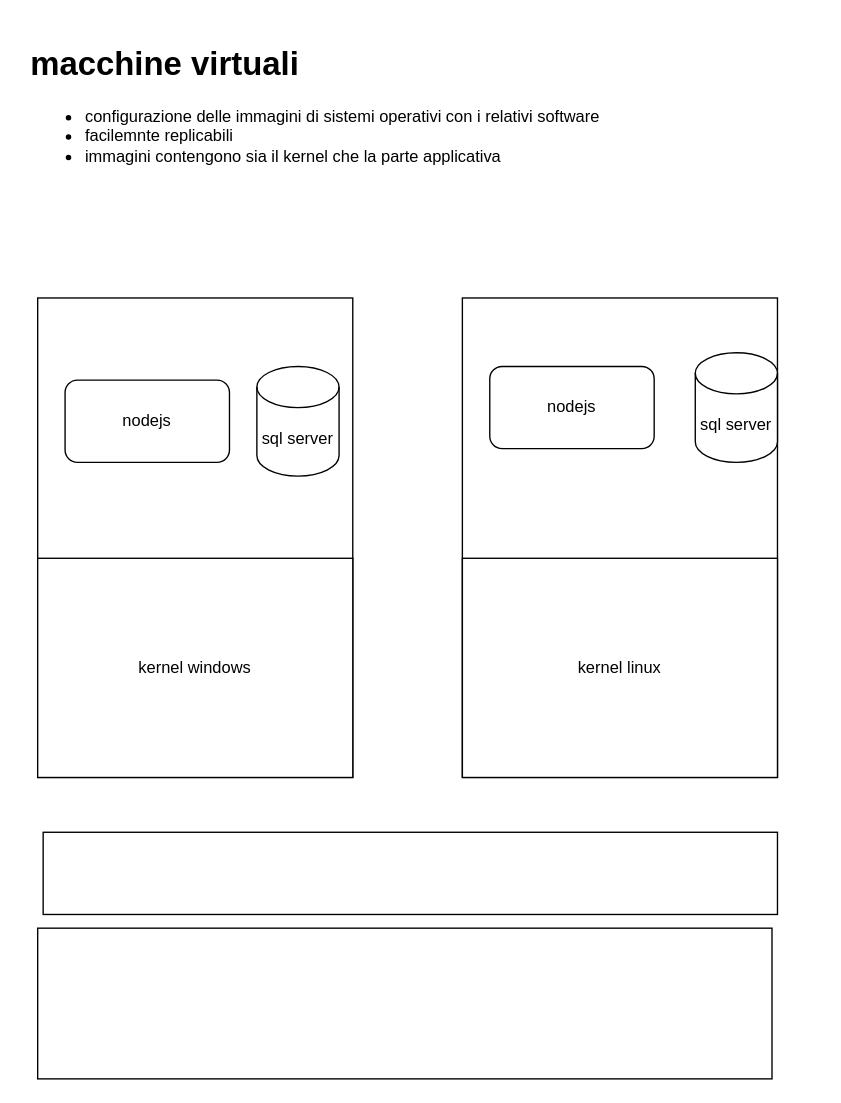
Some shapes in this 841 by 1103 pixel diagram are drawn without their labels. The shapes that lost their labels are listed below. From the top down, each one's centre as x and y in pixels, then its label:
At point 409,872: "SISTEMA DI VITUALIZZAZIONE".
At point 404,1003: "macchina fisica".
